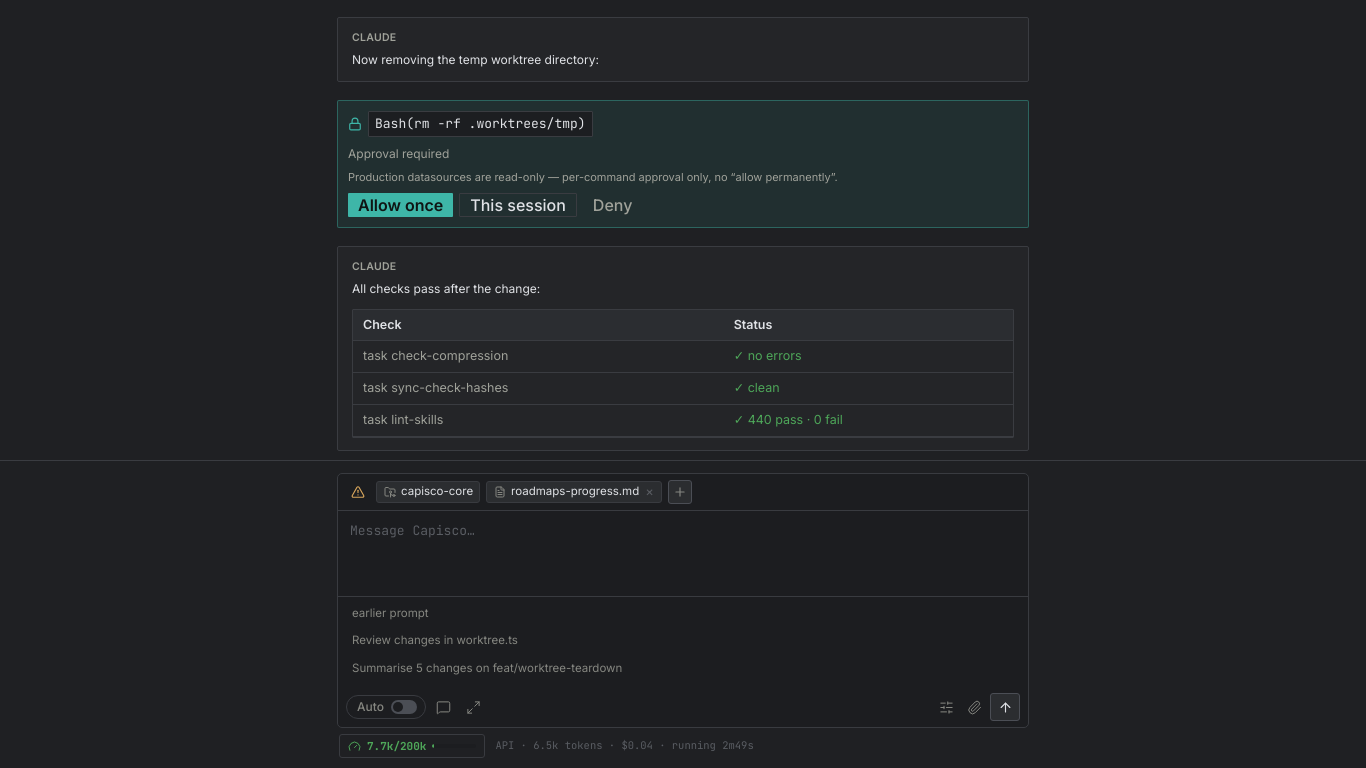
Test case: Composer — P4 history overlay (Cmd+R) › opens the overlay over the session prompt log and fills on pick
This screenshot has width=1366, height=768.
(page scrolled)
Type keys "{Meta>}r{/Meta}"
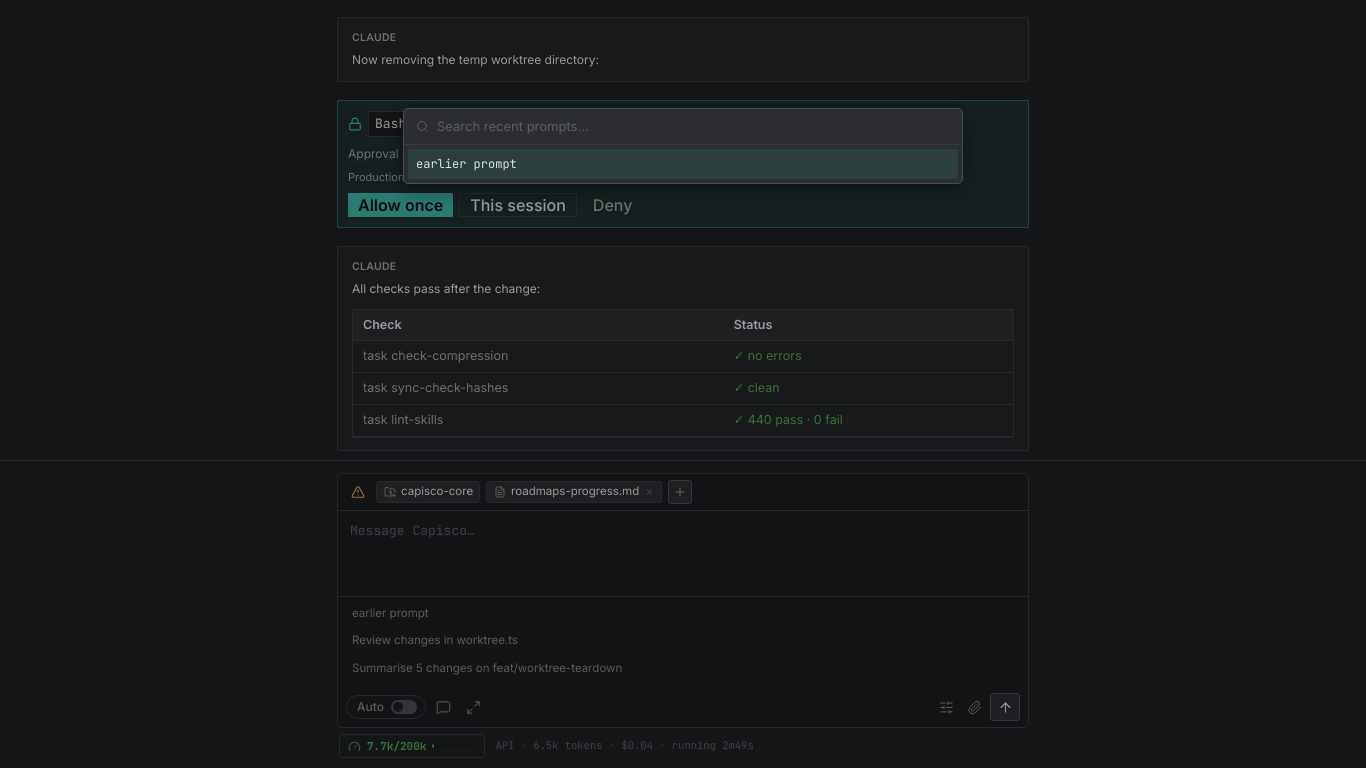
Expected: the element with test id "history-overlay" is shown
Click the option with test id "history-item-0" at (466, 164), box [408,149,958,179]
(page scrolled)
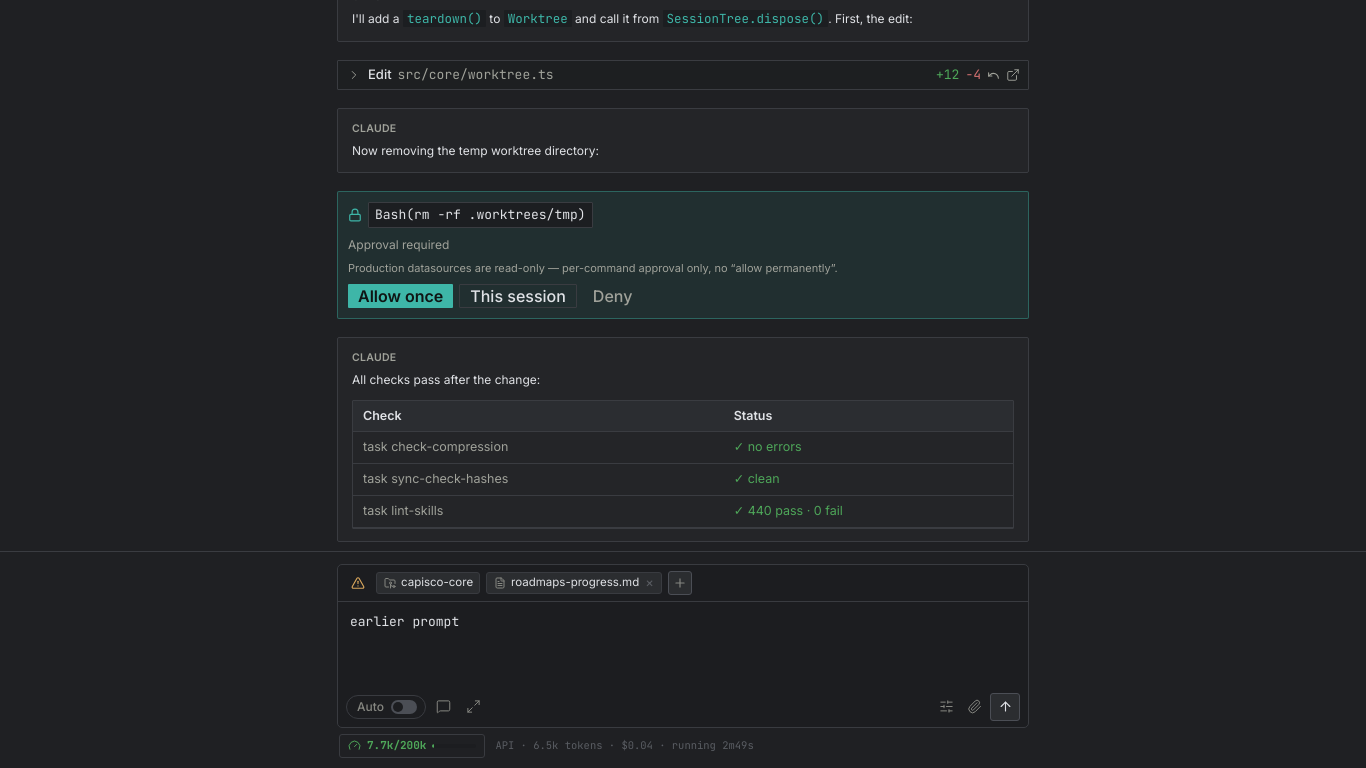
Expected: the dropdown with test id "composer-input" holds "earlier prompt", [338,602,1028,681]
